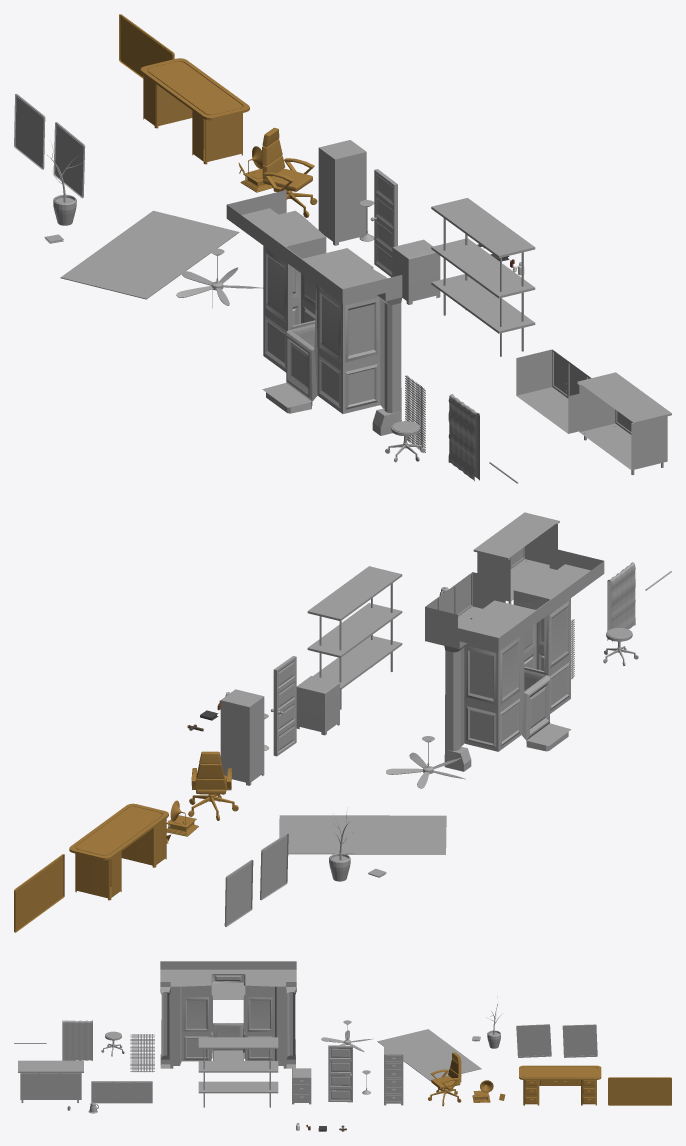
File: LobbyFBX.fbx
The picture shows the model from 3 angles, top to bottom: view 1: azimuth 30°, elevation 25°; view 2: azimuth 150°, elevation 25°; view 3: azimuth 270°, elevation 25°; orthographic projection. The views are drawn at different scales.
Visible parts, largest first — view 1: room, Shelf, Rug1, Desk, Worktop, cabinet1, cupboard, Cabinet, Door1, Courtain, Chair, board (+5 smaller); view 2: room, Shelf, Rug1, Desk, Worktop, cabinet1, cupboard, board, Cabinet, Door1, Chair, Courtain (+5 smaller); view 3: room, Shelf, Worktop, Rug1, Desk, board, Door1, cupboard, Courtain, cabinet1, Painting2, Painting3 (+6 smaller).
Boxes of the visible parts, <box> form: room: <box>226,190,402,435</box>; Shelf: <box>431,198,535,356</box>; Rug1: <box>60,210,239,299</box>; Desk: <box>140,58,249,164</box>; Worktop: <box>577,372,671,474</box>; cabinet1: <box>318,140,366,245</box>; cupboard: <box>516,349,591,433</box>; Cabinet: <box>392,239,440,304</box>; Door1: <box>370,169,397,277</box>; Courtain: <box>448,394,479,481</box>; Chair: <box>262,127,317,217</box>; board: <box>119,14,174,78</box>; room: <box>444,547,604,771</box>; Shelf: <box>307,566,402,709</box>; Rug1: <box>279,815,446,854</box>; Desk: <box>69,803,168,900</box>; Worktop: <box>473,512,559,603</box>; cabinet1: <box>220,689,264,785</box>; cupboard: <box>425,572,505,645</box>; board: <box>14,854,64,932</box>; Cabinet: <box>296,676,339,735</box>; Door1: <box>270,656,296,756</box>; Chair: <box>188,751,238,820</box>; Courtain: <box>607,562,635,641</box>; room: <box>160,961,296,1068</box>; Shelf: <box>198,1037,278,1107</box>; Worktop: <box>18,1060,83,1102</box>; Rug1: <box>377,1029,481,1081</box>; Desk: <box>519,1065,601,1105</box>; board: <box>608,1077,671,1105</box>; Door1: <box>328,1045,352,1102</box>; cupboard: <box>91,1081,152,1103</box>; Courtain: <box>62,1020,92,1060</box>; cabinet1: <box>384,1045,403,1105</box>; Painting2: <box>516,1024,551,1057</box>; Painting3: <box>562,1024,597,1057</box>.
Size of the model in its own units: 7.89 by 3.4 by 21.46.
